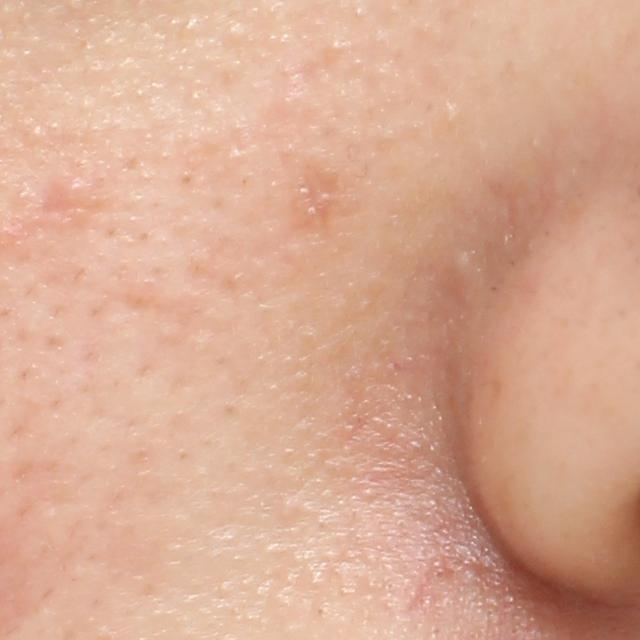atrophic_scar: (296, 157, 340, 220)
